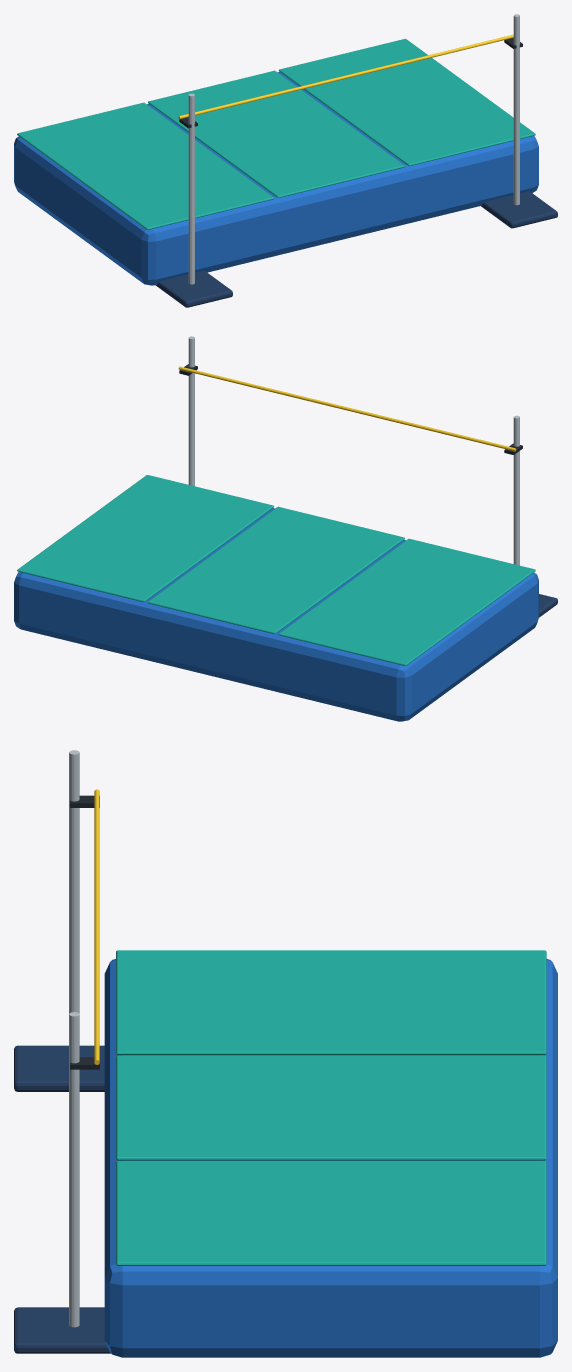
Rendered from high_jump.glb.
The picture shows the model from 3 angles, top to bottom: view 1: azimuth 30°, elevation 25°; view 2: azimuth 150°, elevation 25°; view 3: azimuth 270°, elevation 25°; orthographic projection. The views are drawn at different scales.
Parts seen in each view (by area): view 1: high_jump; view 2: high_jump; view 3: high_jump.
Boxes of the visible parts, x1=… form: high_jump: x1=14, y1=14, x2=557, y2=307; high_jump: x1=14, y1=336, x2=557, y2=721; high_jump: x1=14, y1=750, x2=557, y2=1357.
Size of the model in its own units: 5 by 2.35 by 3.6.
